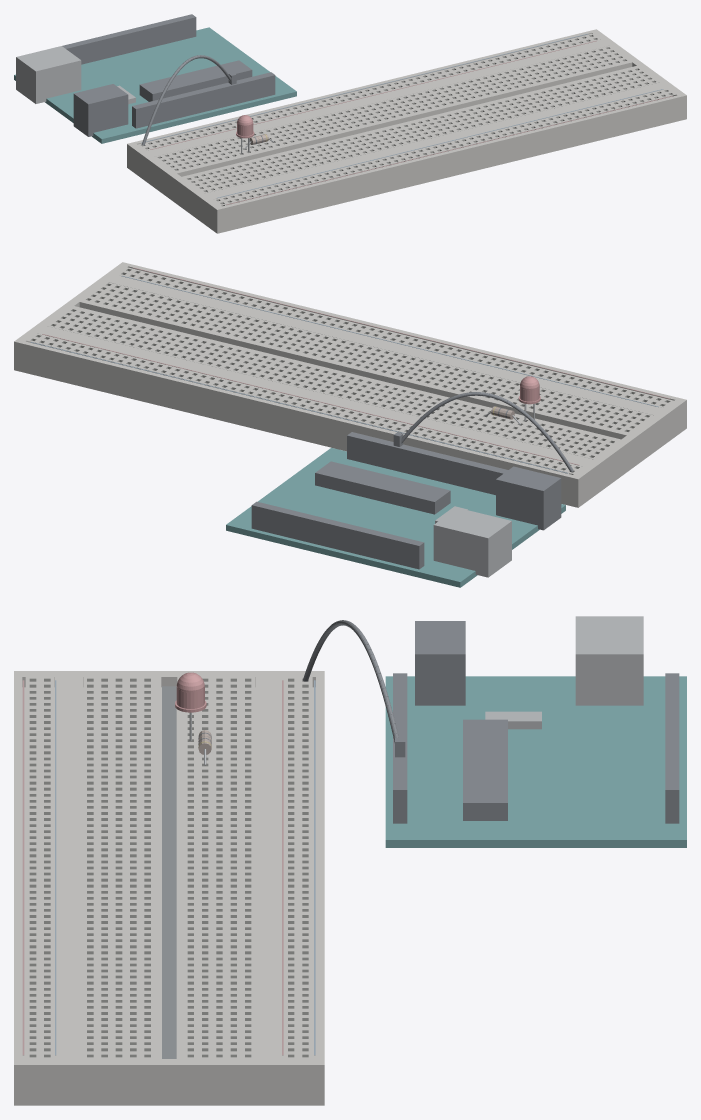
The model's file is step-4.glb.
3 views of the same model, one above another, from view 1: azimuth 30°, elevation 25°; view 2: azimuth 150°, elevation 25°; view 3: azimuth 270°, elevation 25° (orthographic). The views are drawn at different scales.
Parts seen in each view (by area): view 1: breadboard__mesh, uno__mesh, ground_feed__mesh, red_led__mesh; view 2: breadboard__mesh, uno__mesh, ground_feed__mesh, red_led__mesh; view 3: breadboard__mesh, uno__mesh, ground_feed__mesh, red_led__mesh.
Part boxes in pixels (x1,y1,x2,y2): breadboard__mesh: (127, 29, 686, 233); uno__mesh: (14, 14, 296, 143); ground_feed__mesh: (141, 55, 236, 145); red_led__mesh: (236, 115, 254, 153); breadboard__mesh: (14, 262, 686, 507); uno__mesh: (226, 432, 565, 587); ground_feed__mesh: (393, 392, 573, 472); red_led__mesh: (518, 376, 540, 420); breadboard__mesh: (14, 671, 324, 1105); uno__mesh: (385, 616, 686, 847); ground_feed__mesh: (303, 620, 405, 757); red_led__mesh: (175, 672, 206, 741).
Bounding box in the file's own units: 0.1713 × 0.0286 × 0.1192.
